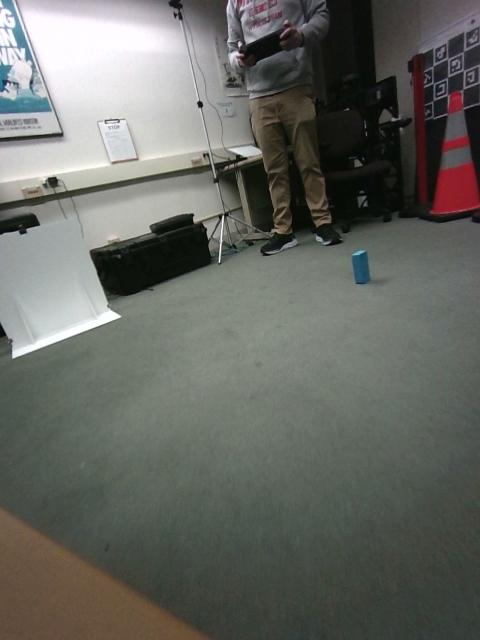block: (288, 302, 348, 379)
